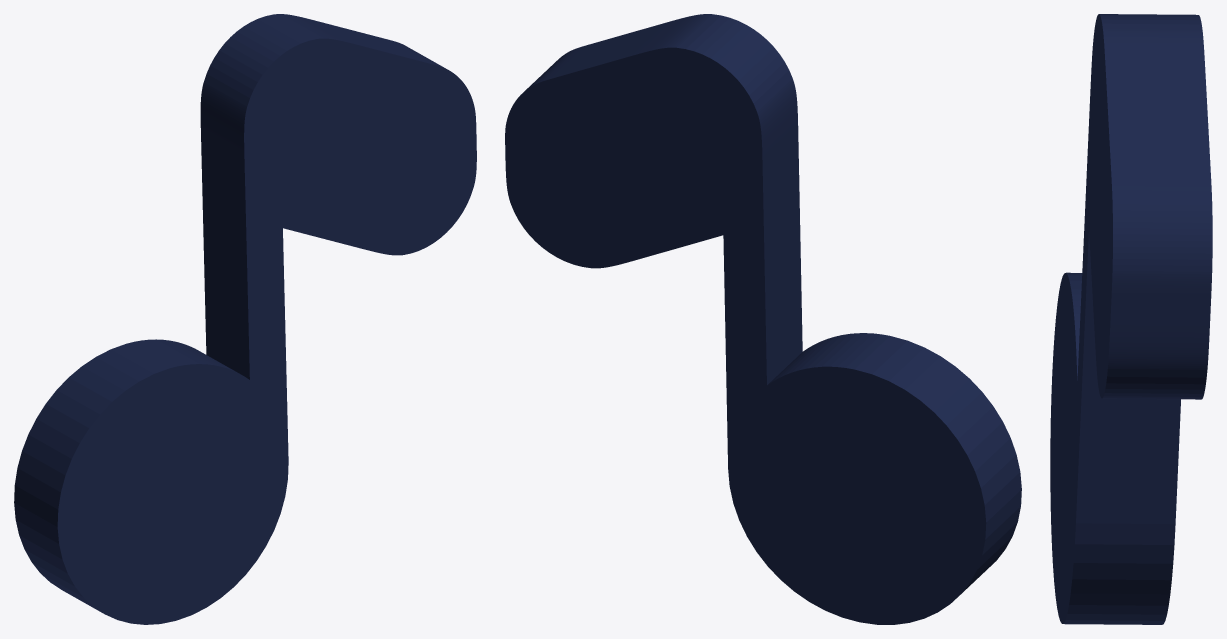
The model's file is corchea.gltf.
3 views of the same model, side by side, from view 1: azimuth 30°, elevation 25°; view 2: azimuth 150°, elevation 25°; view 3: azimuth 270°, elevation 25° (orthographic). The views are drawn at different scales.
Visible parts, largest first — view 1: Curve; view 2: Curve; view 3: Curve.
Part boxes in pixels (left/top/right/bottom): Curve: left=14, top=14, right=476, bottom=624; Curve: left=505, top=14, right=1021, bottom=624; Curve: left=1050, top=14, right=1212, bottom=624.
Bounding box in the file's own units: 2.31 × 2.63 × 0.5686.
